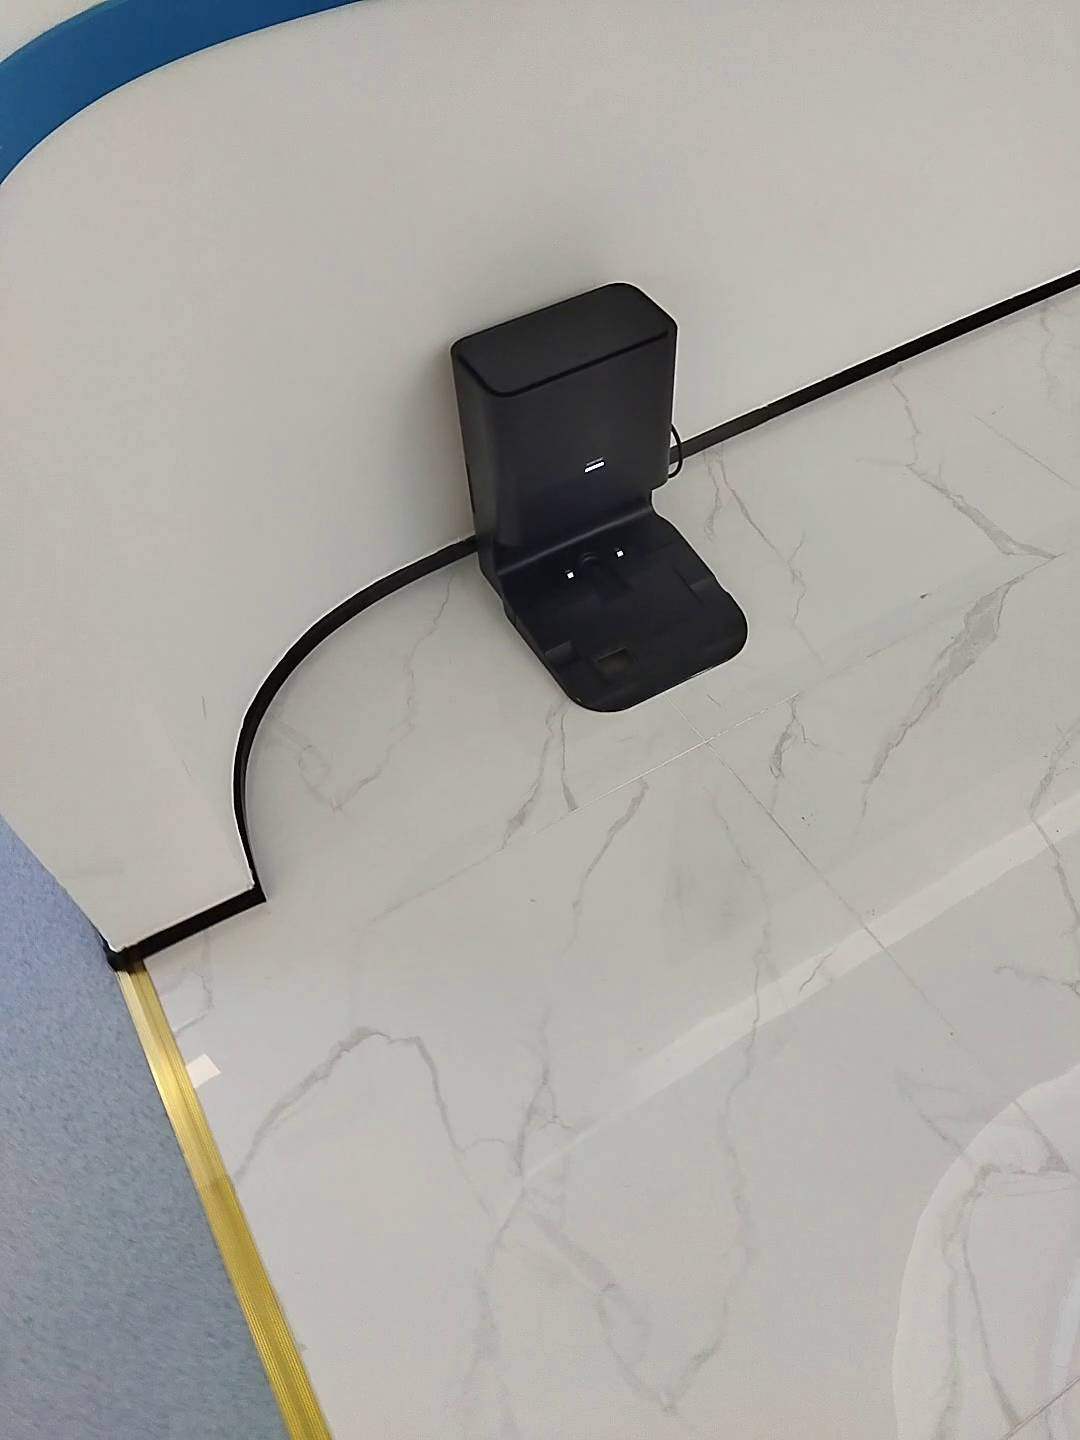dust collecting barrel: (452, 282, 749, 715)
